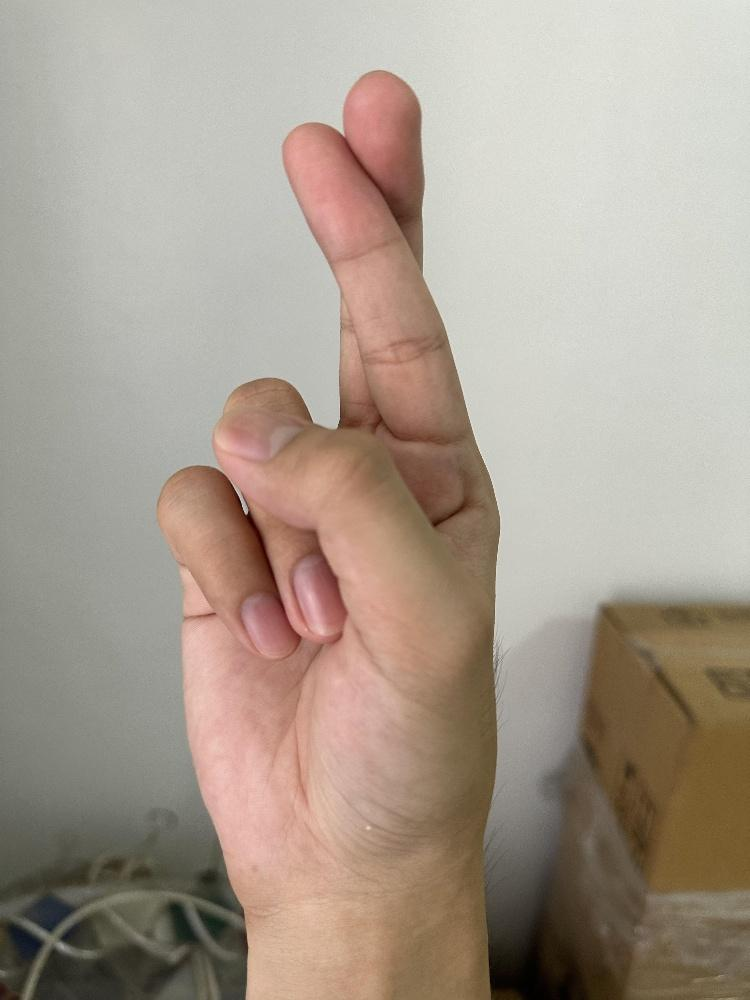r: (153, 64, 508, 910)
